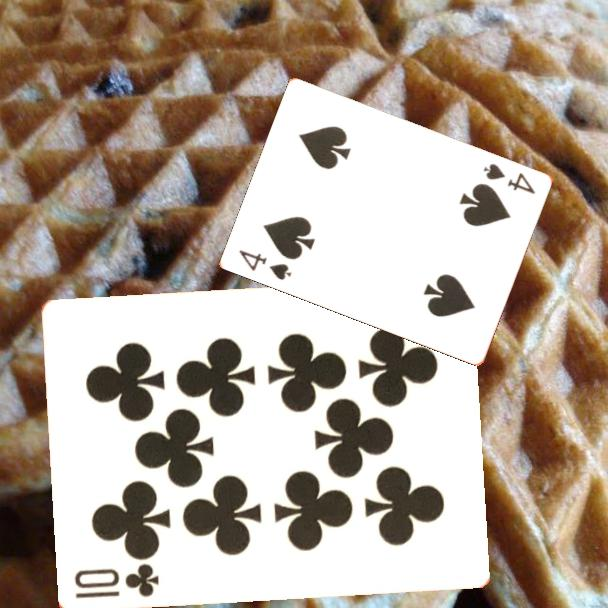c10: (70, 561, 162, 602)
s04: (480, 160, 539, 197), (236, 246, 295, 283)
